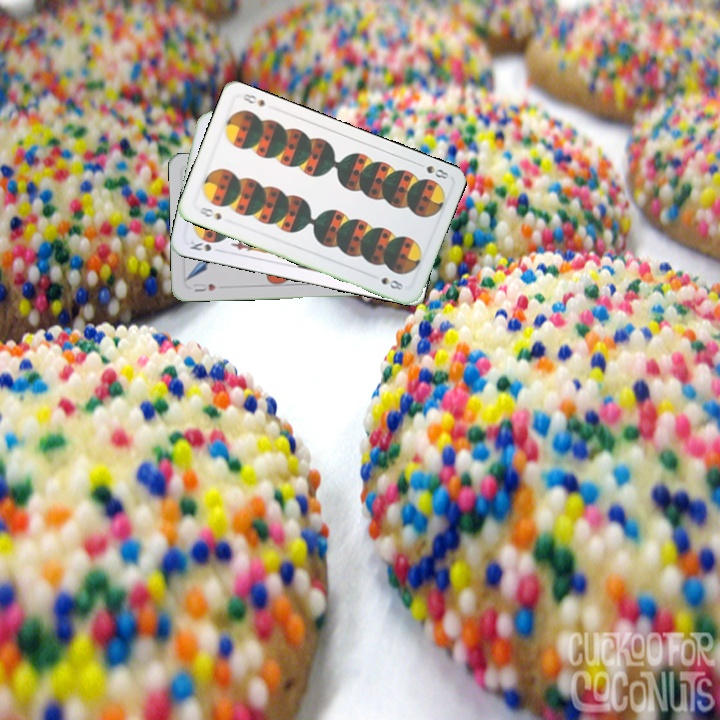HU: (190, 279, 219, 294)
S8: (412, 158, 451, 182), (195, 203, 224, 223)
SK: (186, 237, 225, 255)
